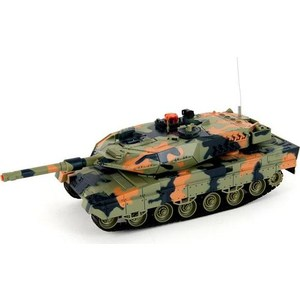Battle Tank: (1, 106, 299, 233)
